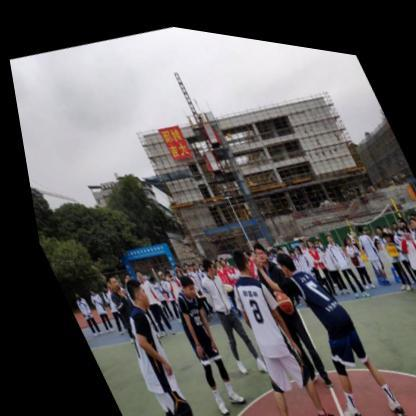basketball: (265, 282, 289, 310)
